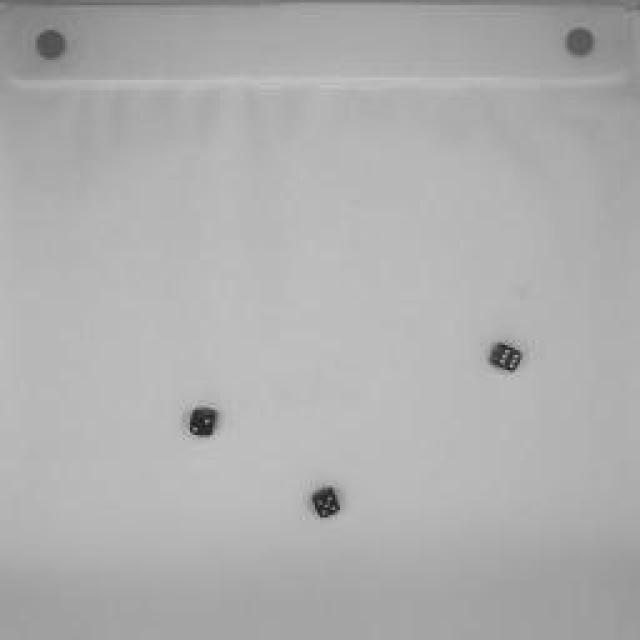dice_2: (180, 402, 225, 442)
dice_5: (309, 485, 346, 523)
dice_6: (485, 338, 525, 378)
